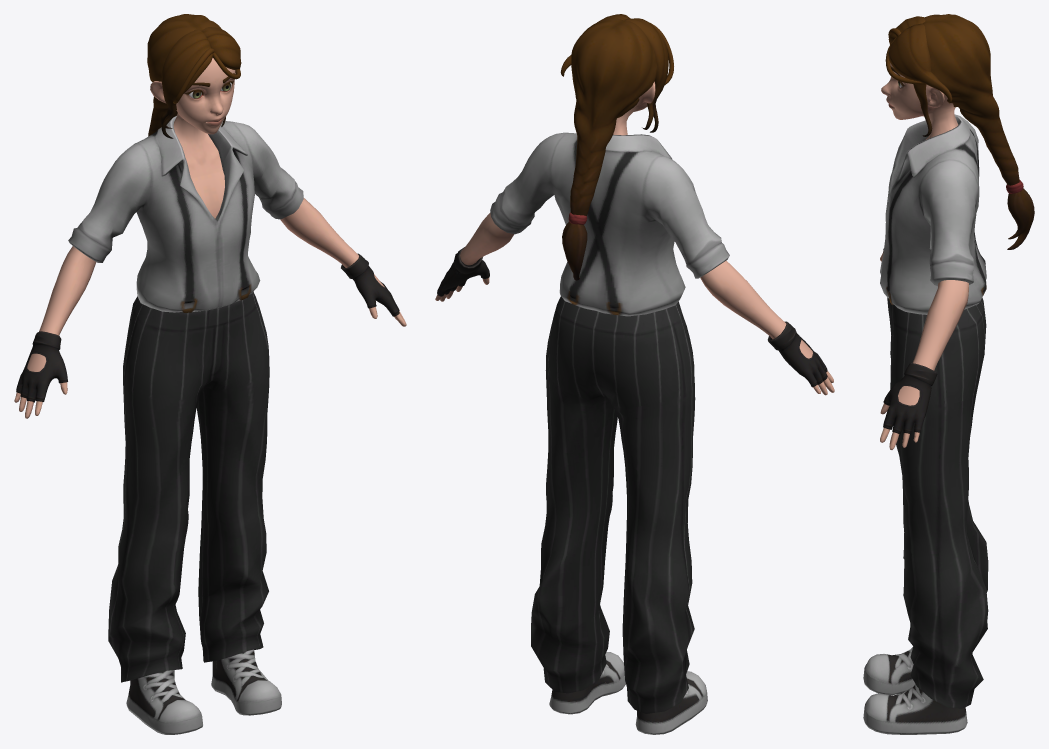
Rendered from StaffGloria_Mesh.obj.
3 renders of one model, left to right at view 1: azimuth 30°, elevation 25°; view 2: azimuth 150°, elevation 25°; view 3: azimuth 270°, elevation 25°, orthographic.
Visible parts, largest first — view 1: StaffGloria_Mesh_0; view 2: StaffGloria_Mesh_0; view 3: StaffGloria_Mesh_0.
Part boxes in pixels (x1,y1,x2,y2): StaffGloria_Mesh_0: [14, 14, 406, 734]; StaffGloria_Mesh_0: [435, 14, 834, 734]; StaffGloria_Mesh_0: [863, 14, 1034, 734].
Bounding box in the file's own units: 1.06 × 1.8 × 0.4066.
Materials: 1 (1 with a texture image).
